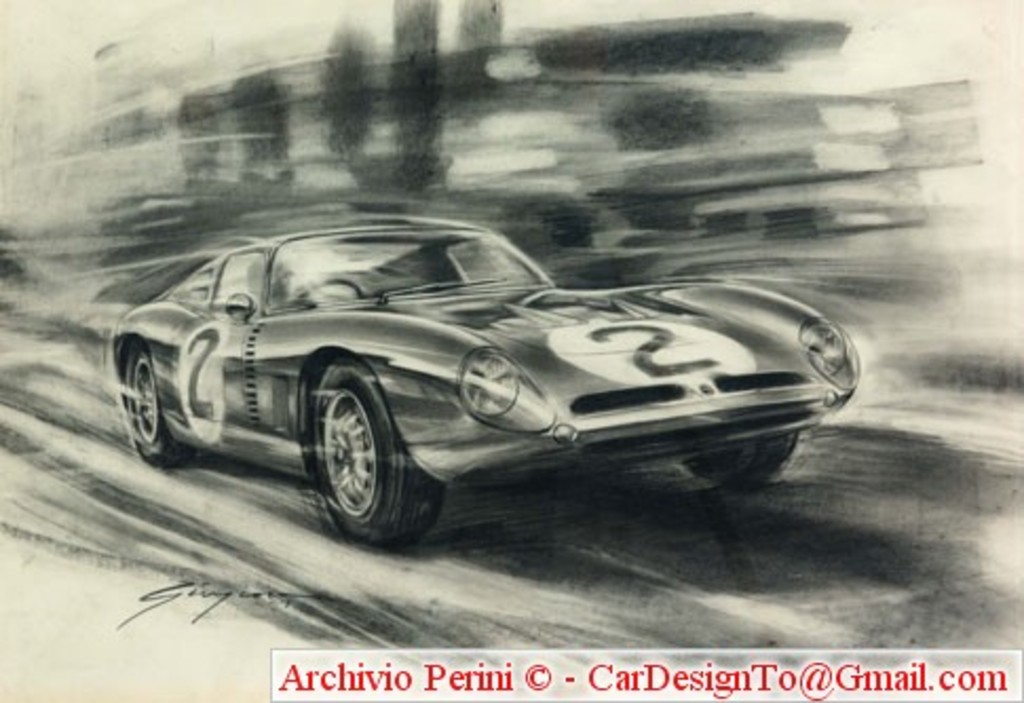Car: (114, 227, 859, 542)
